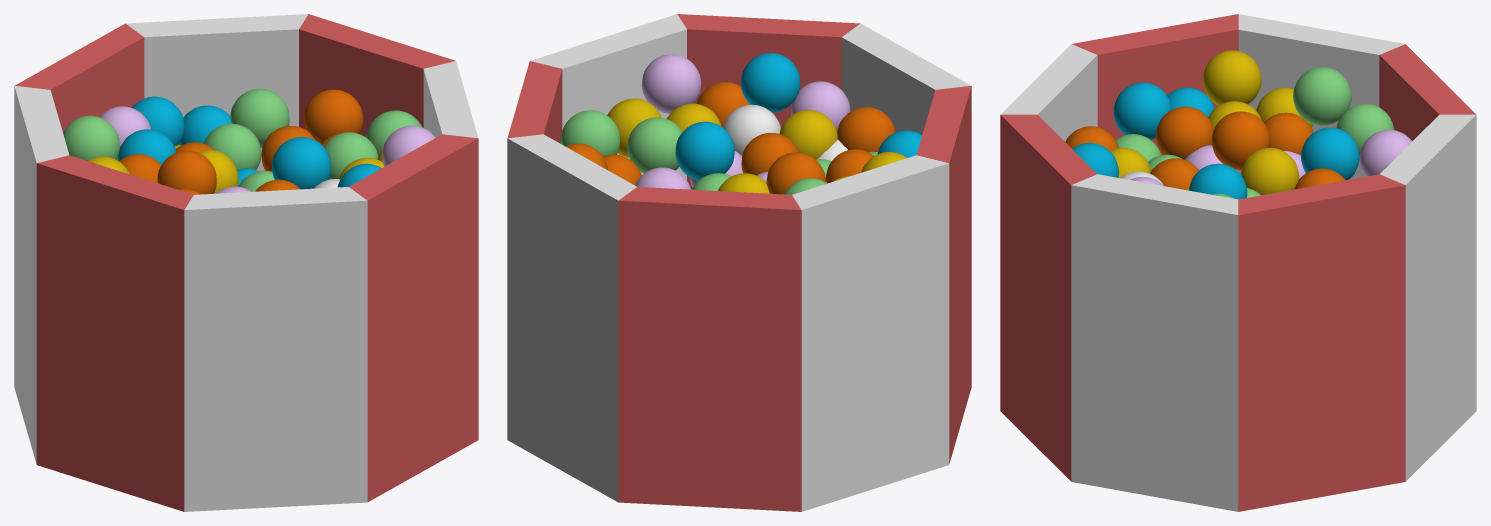
File: CandyBox.fbx
3 renders of one model, left to right at view 1: azimuth 30°, elevation 25°; view 2: azimuth 150°, elevation 25°; view 3: azimuth 270°, elevation 25°, orthographic.
Parts seen in each view (by area): view 1: pasted__group15_pasted__pasted__group14_pasted__pasted__past; view 2: pasted__group15_pasted__pasted__group14_pasted__pasted__past; view 3: pasted__group15_pasted__pasted__group14_pasted__pasted__past.
Part boxes in pixels (x1,y1,x2,y2): pasted__group15_pasted__pasted__group14_pasted__pasted__past: (14,14,478,511); pasted__group15_pasted__pasted__group14_pasted__pasted__past: (507,14,971,511); pasted__group15_pasted__pasted__group14_pasted__pasted__past: (1000,14,1476,511).
Size of the model in its own units: 144 by 99.33 by 144.
